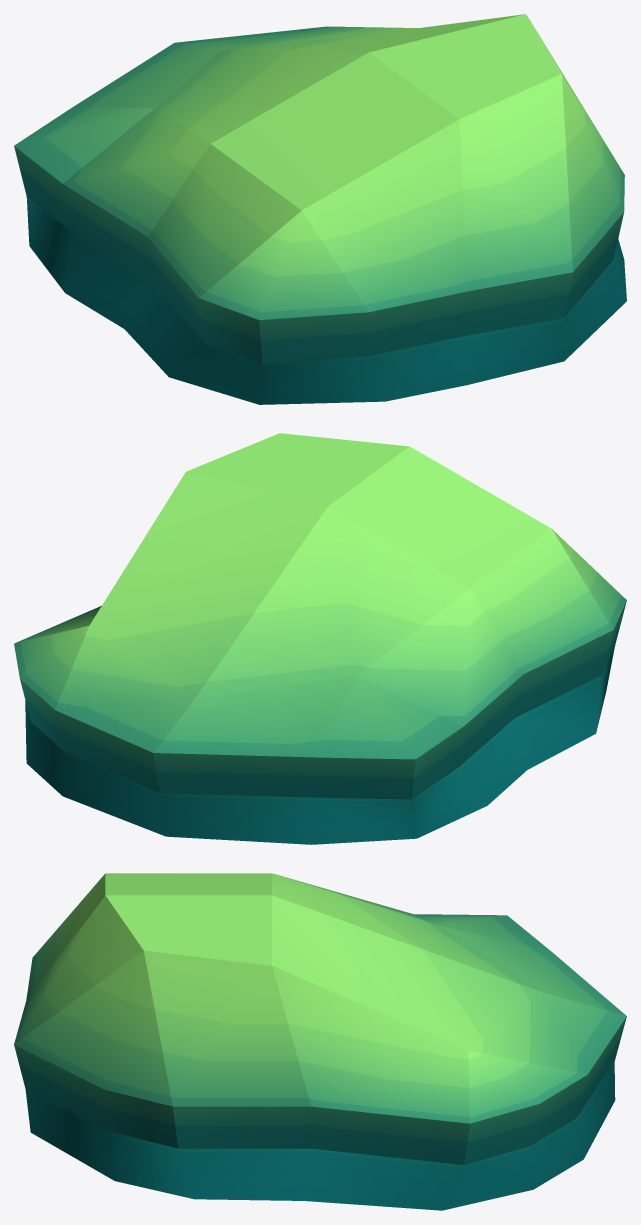
Rendered from terrain_7.fbx.
3 renders of one model, top to bottom at view 1: azimuth 30°, elevation 25°; view 2: azimuth 150°, elevation 25°; view 3: azimuth 270°, elevation 25°, orthographic. The views are drawn at different scales.
Visible parts, largest first — view 1: pPlane44; view 2: pPlane44; view 3: pPlane44.
Boxes of the visible parts, box(x1,y1,x2,y2) form: pPlane44: box(14, 14, 626, 404); pPlane44: box(14, 433, 626, 844); pPlane44: box(14, 873, 626, 1210).
Size of the model in its own units: 388 by 173 by 460.
